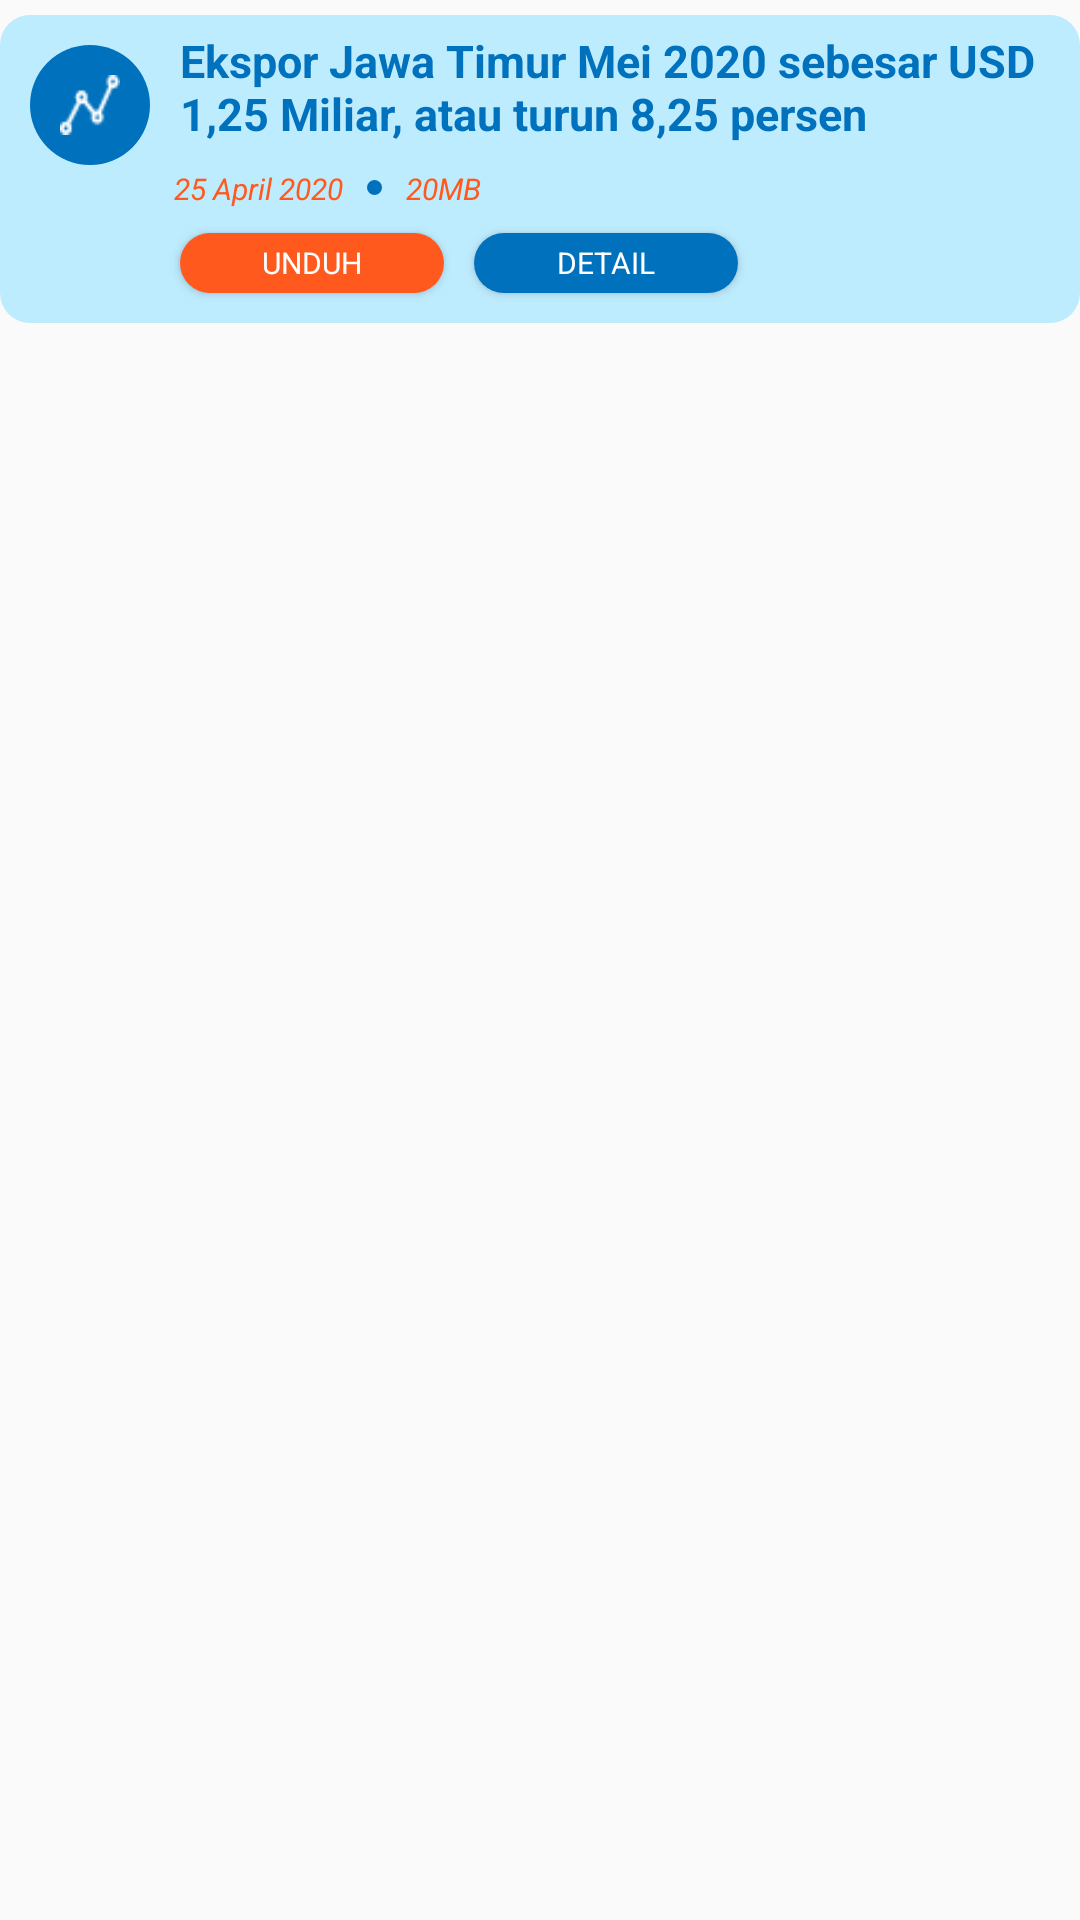

Screen size 1080 × 1920. Icon name, then its box in pixels as (x1, y1, x2, y2):
graph: (60, 75, 120, 135)
